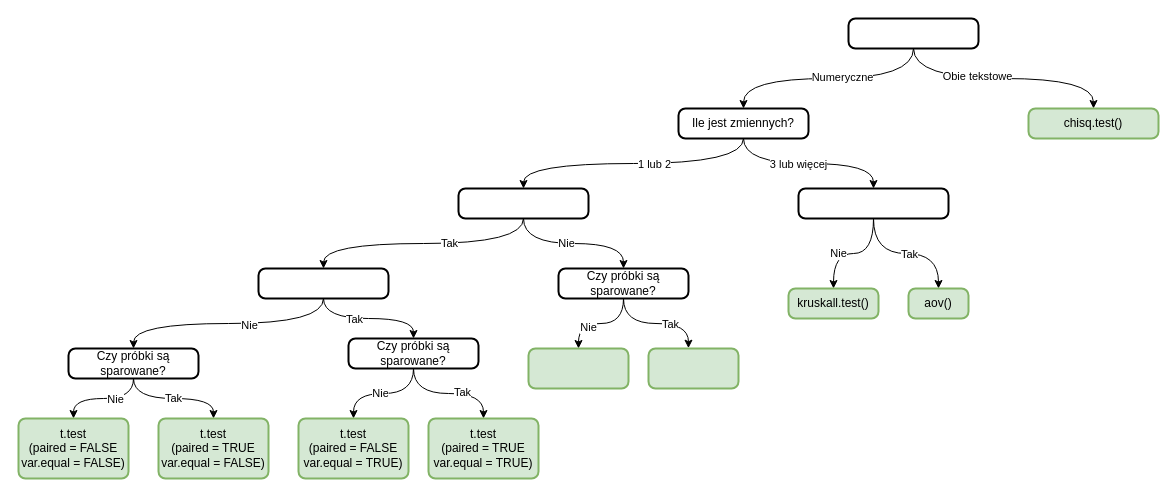
Some shapes in this 1176 by 496 pixel diagram are drawn without their labels. Here are the shapes that lost their labels. From the top down, the box of each, then its label:
(847, 17, 979, 49): Rodzaj zmiennych?
(457, 187, 589, 219): Czy rozkłady normalne?
(797, 187, 949, 219): Czy rozkłady normalne i mają taką samą wariancję?
(257, 267, 389, 299): Czy wariancje są takie same?
(527, 347, 629, 389): wilcox.test (paired = FALSE)
(647, 347, 739, 389): wilcox.test (paired = TRUE)
